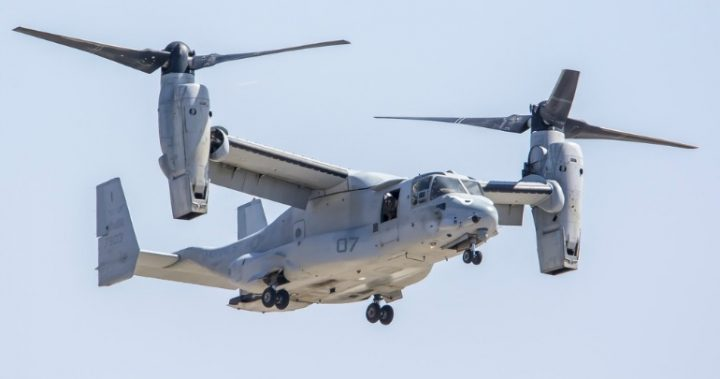MilitaryHelicopter: (17, 16, 706, 332)
